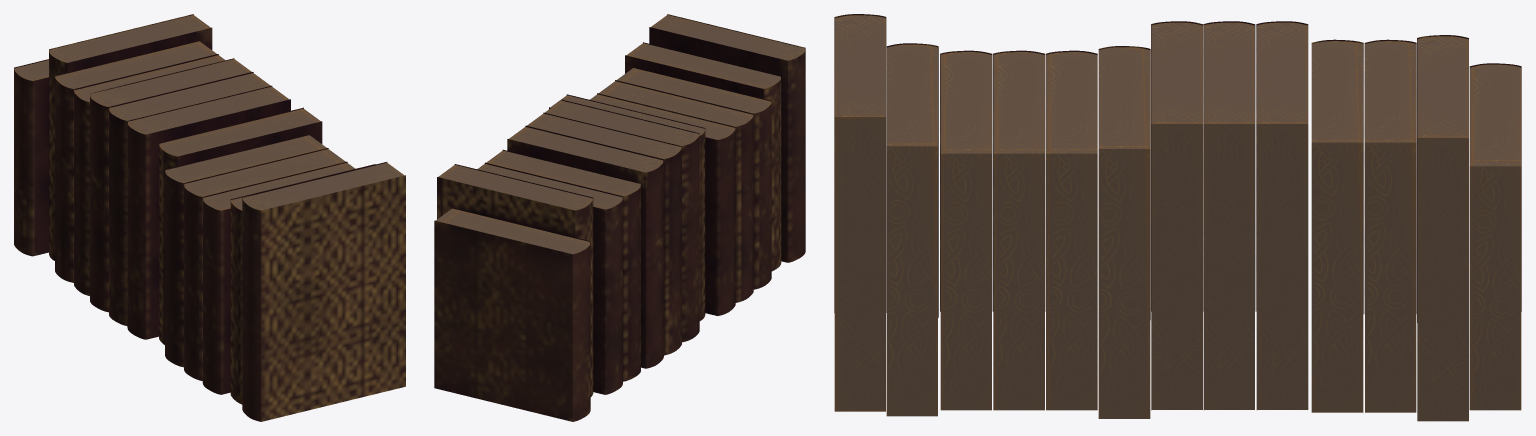
The model's file is SM_BookPile5.fbx.
The picture shows the model from 3 angles, left to right: view 1: azimuth 30°, elevation 25°; view 2: azimuth 150°, elevation 25°; view 3: azimuth 270°, elevation 25°; orthographic projection. The views are drawn at different scales.
Parts seen in each view (by area): view 1: SM_BookPile5_LOD0; view 2: SM_BookPile5_LOD0; view 3: SM_BookPile5_LOD0.
Boxes of the visible parts, x1,y1,x2,y2 form: SM_BookPile5_LOD0: (14, 14, 405, 421); SM_BookPile5_LOD0: (434, 14, 805, 421); SM_BookPile5_LOD0: (834, 14, 1521, 421).
Bounding box in the file's own units: 37.38 × 95.82 × 45.56.
1 material, 1 textured.
